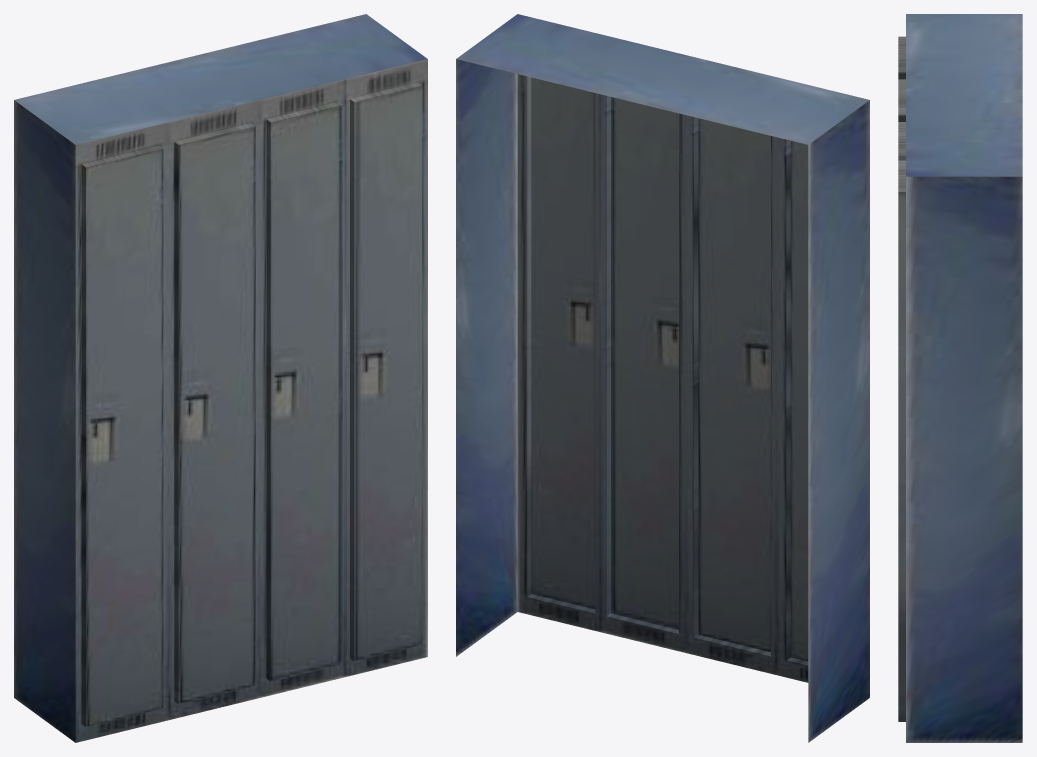
File: office_locker.FBX
3 views of the same model, side by side, from view 1: azimuth 30°, elevation 25°; view 2: azimuth 150°, elevation 25°; view 3: azimuth 270°, elevation 25° (orthographic). The views are drawn at different scales.
Parts seen in each view (by area): view 1: office_locker; view 2: office_locker; view 3: office_locker.
Boxes of the visible parts, x1,y1,x2,y2 form: office_locker: [14, 14, 427, 742]; office_locker: [456, 14, 869, 742]; office_locker: [898, 14, 1022, 742].
Bounding box in the file's own units: 112 × 181 × 36.01.
